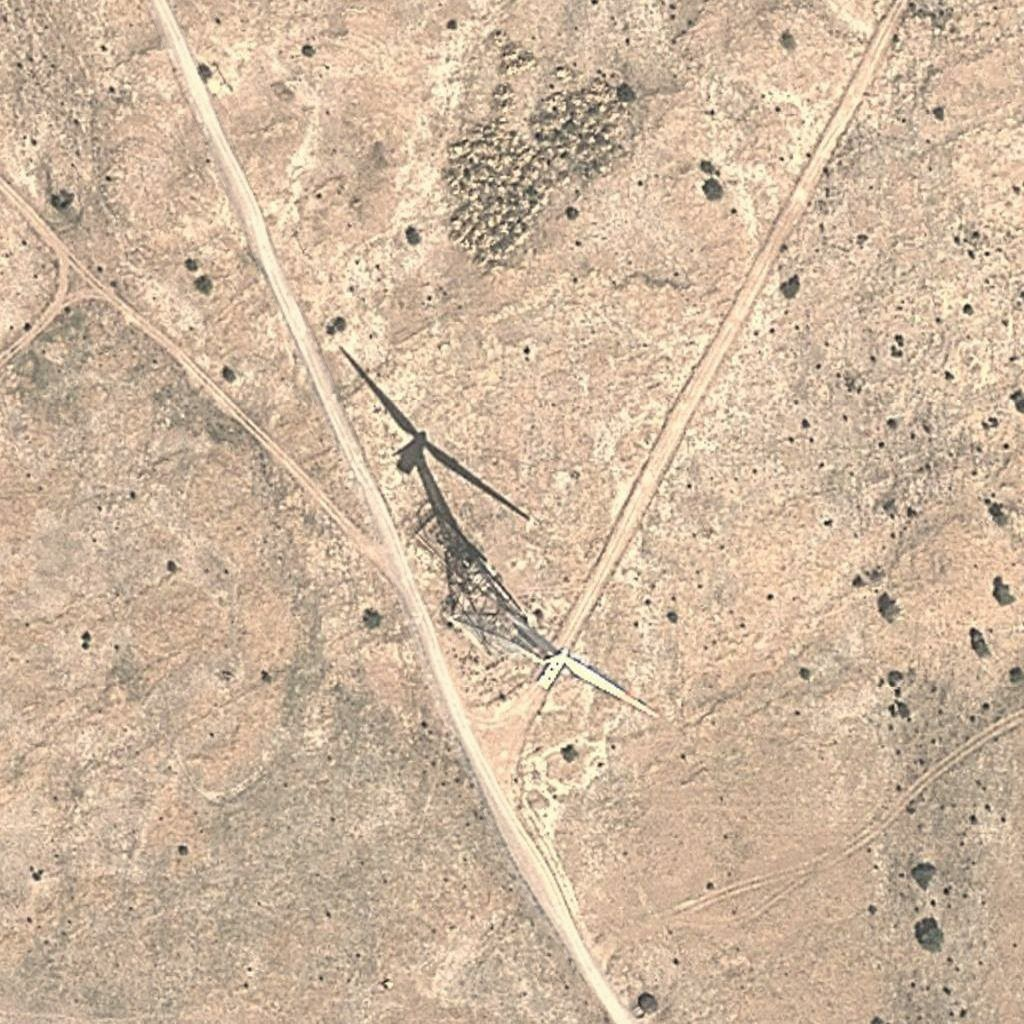Windmill: (327, 338, 540, 626)
